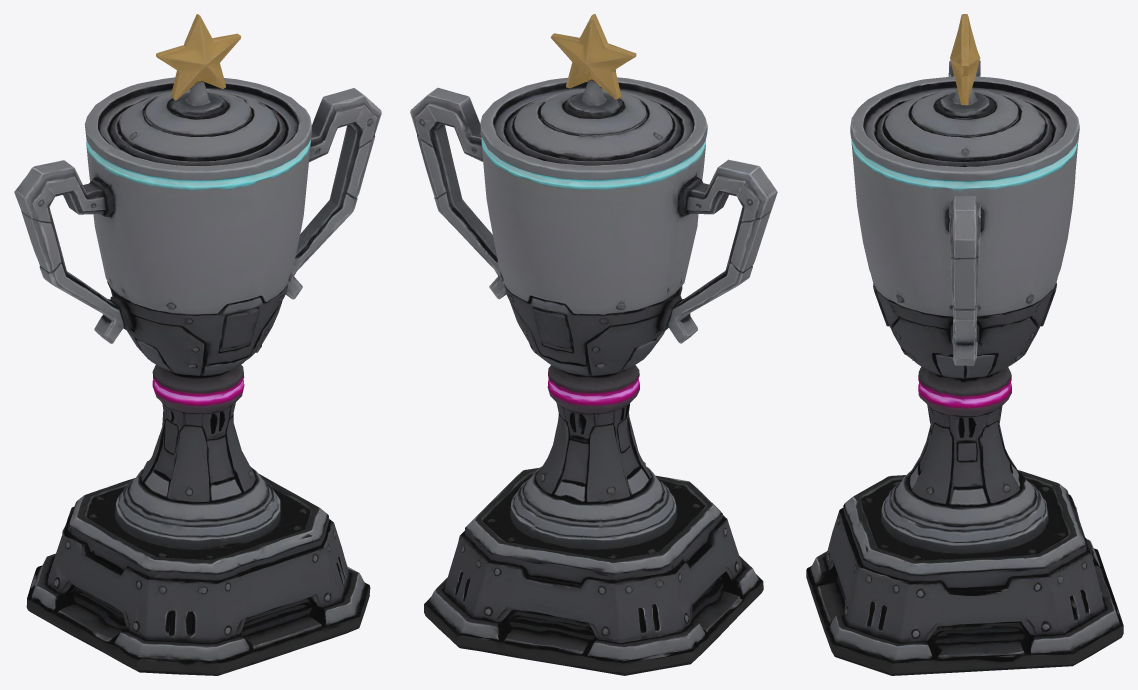
File: prop-trophy.glb
The picture shows the model from 3 angles, left to right: view 1: azimuth 30°, elevation 25°; view 2: azimuth 150°, elevation 25°; view 3: azimuth 270°, elevation 25°; orthographic projection.
Parts seen in each view (by area): view 1: body; view 2: body; view 3: body.
Part boxes in pixels (left/top/right/bottom): body: left=14, top=14, right=381, bottom=675; body: left=410, top=14, right=777, bottom=675; body: left=806, top=14, right=1123, bottom=675.
Size of the model in its own units: 0.6337 by 0.999 by 0.4822.
Materials: 1 (1 with a texture image).
